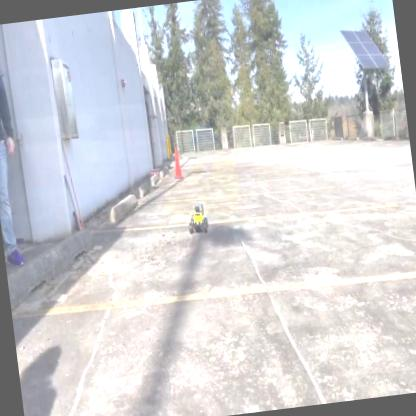cone: (170, 143, 186, 184)
mushr_car: (182, 196, 212, 240)
